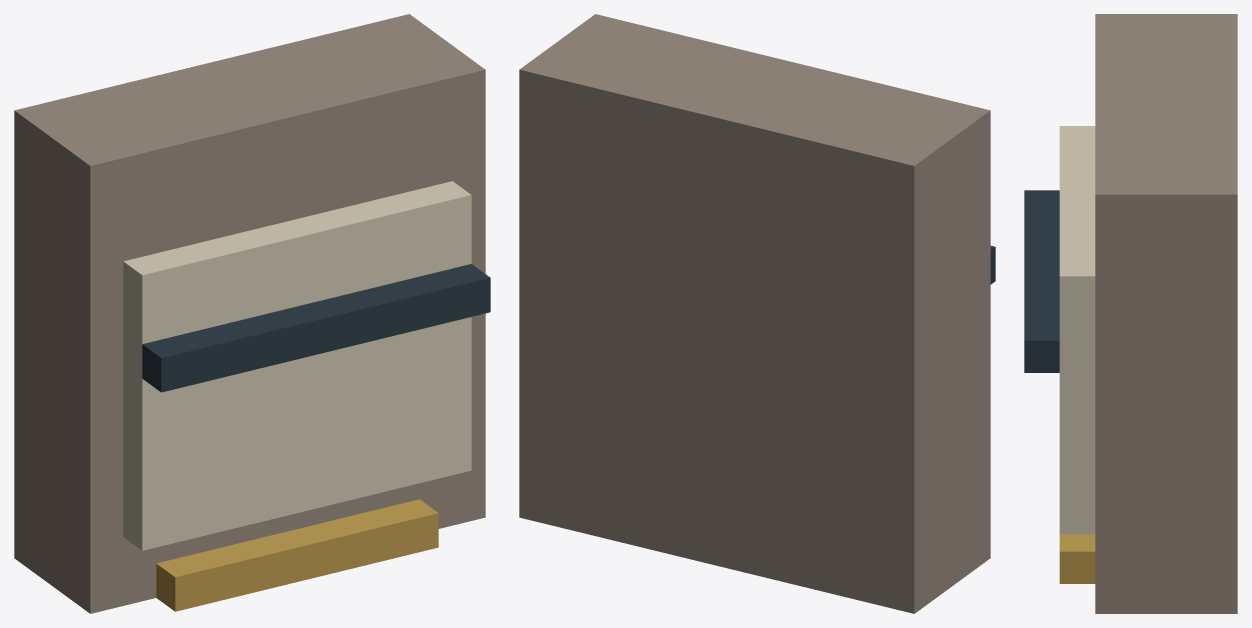
The model's file is photography-19.glb.
3 renders of one model, left to right at view 1: azimuth 30°, elevation 25°; view 2: azimuth 150°, elevation 25°; view 3: azimuth 270°, elevation 25°, orthographic. The views are drawn at different scales.
Visible parts, largest first — view 1: Memory card; view 2: Memory card; view 3: Memory card.
Part boxes in pixels (x1,y1,x2,y2): Memory card: [14, 14, 490, 613]; Memory card: [519, 14, 995, 613]; Memory card: [1024, 14, 1237, 613].
Size of the model in its own units: 0.96 by 1.04 by 0.48.
